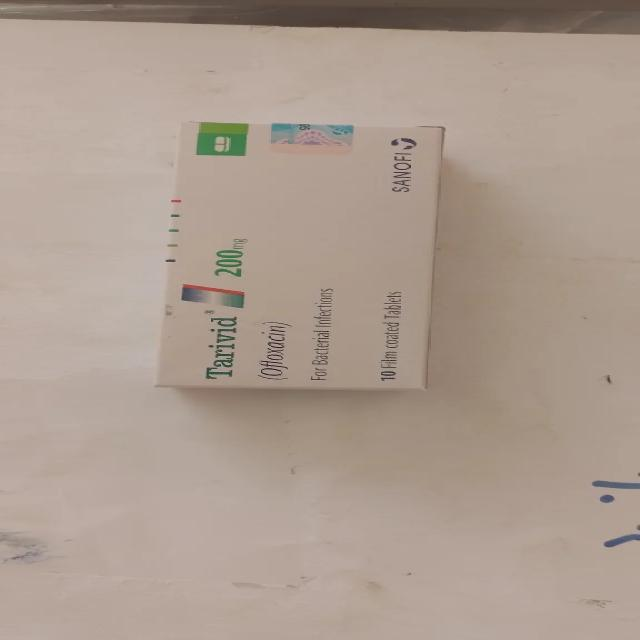drug-name: (193, 308, 240, 383)
